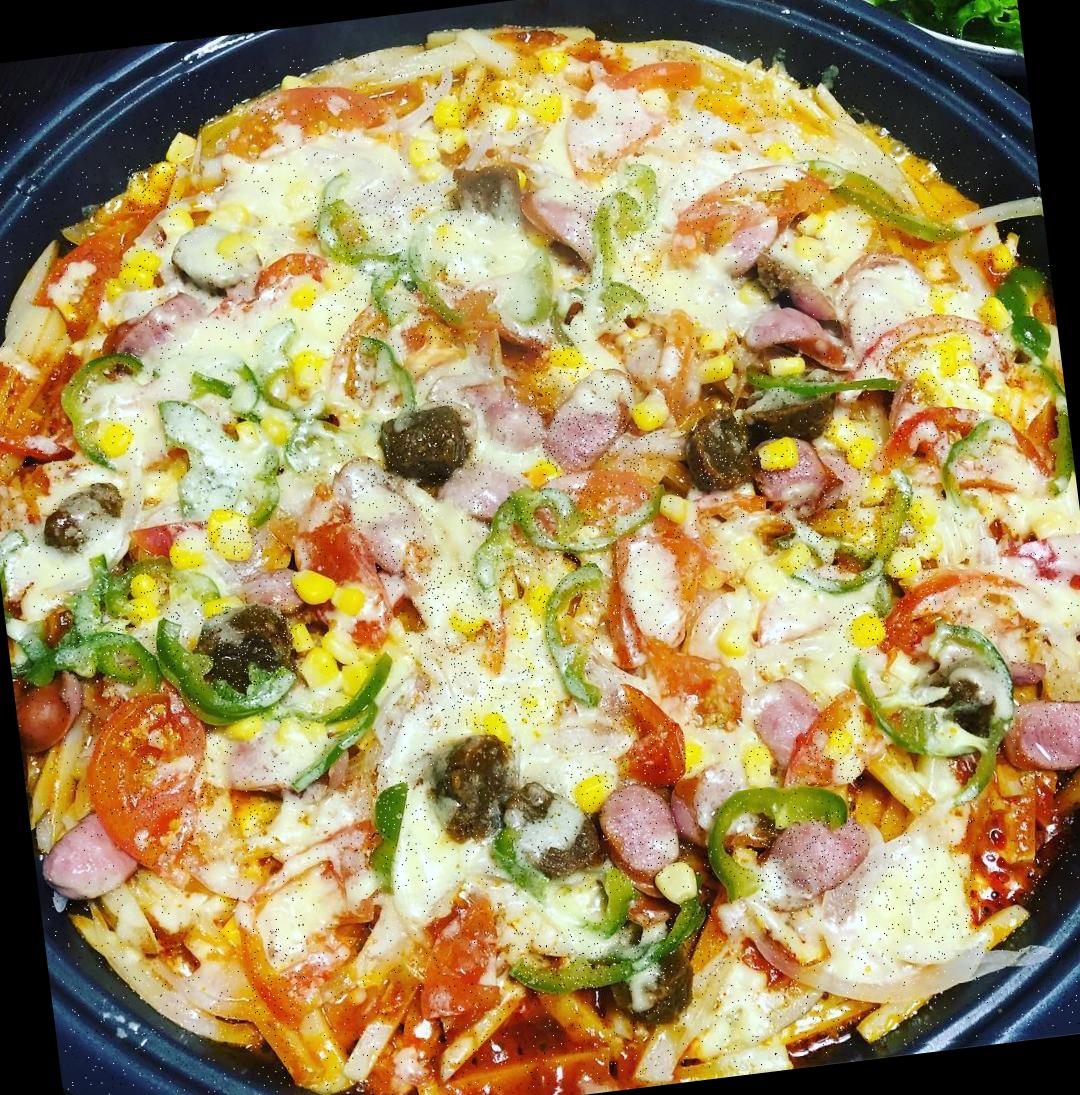Cheese: (406, 551, 560, 737), (585, 78, 801, 186), (849, 842, 990, 969), (151, 310, 293, 385)
Corn: (428, 64, 565, 138), (883, 326, 984, 410), (293, 608, 370, 692), (296, 554, 380, 622), (675, 320, 744, 386), (825, 417, 891, 481), (834, 595, 898, 658), (528, 322, 592, 384), (813, 715, 872, 782), (749, 425, 811, 488), (198, 499, 262, 558), (103, 238, 168, 294), (570, 760, 630, 820), (116, 561, 172, 620), (120, 160, 181, 214), (912, 244, 958, 306), (622, 388, 678, 438), (210, 186, 252, 250), (222, 797, 284, 840), (164, 526, 208, 584), (724, 744, 772, 791), (90, 421, 137, 458), (982, 238, 1018, 268)
Ham: (335, 438, 443, 582), (526, 372, 653, 482), (750, 806, 871, 898), (595, 777, 680, 884), (44, 815, 140, 896), (740, 296, 832, 364), (1007, 691, 1080, 772), (726, 216, 784, 282)
Olives: (423, 728, 531, 838), (382, 394, 484, 492), (194, 599, 300, 690), (690, 400, 767, 490), (30, 484, 123, 548), (758, 379, 840, 428)
Peppers: (460, 479, 670, 670), (842, 624, 1027, 813), (311, 178, 477, 356), (494, 904, 725, 1000), (66, 598, 232, 715), (812, 146, 973, 258), (780, 484, 932, 594), (480, 814, 642, 908), (566, 177, 668, 323), (342, 766, 436, 899)
Pizza: (0, 0, 1080, 1095)
Tomatoes: (82, 700, 219, 862), (875, 566, 1025, 650), (414, 898, 518, 1018), (845, 301, 1002, 379), (571, 17, 708, 100), (880, 392, 1016, 469), (682, 166, 824, 234), (638, 628, 736, 720), (238, 922, 316, 1035), (611, 687, 689, 778), (240, 239, 335, 306), (799, 696, 866, 787)
